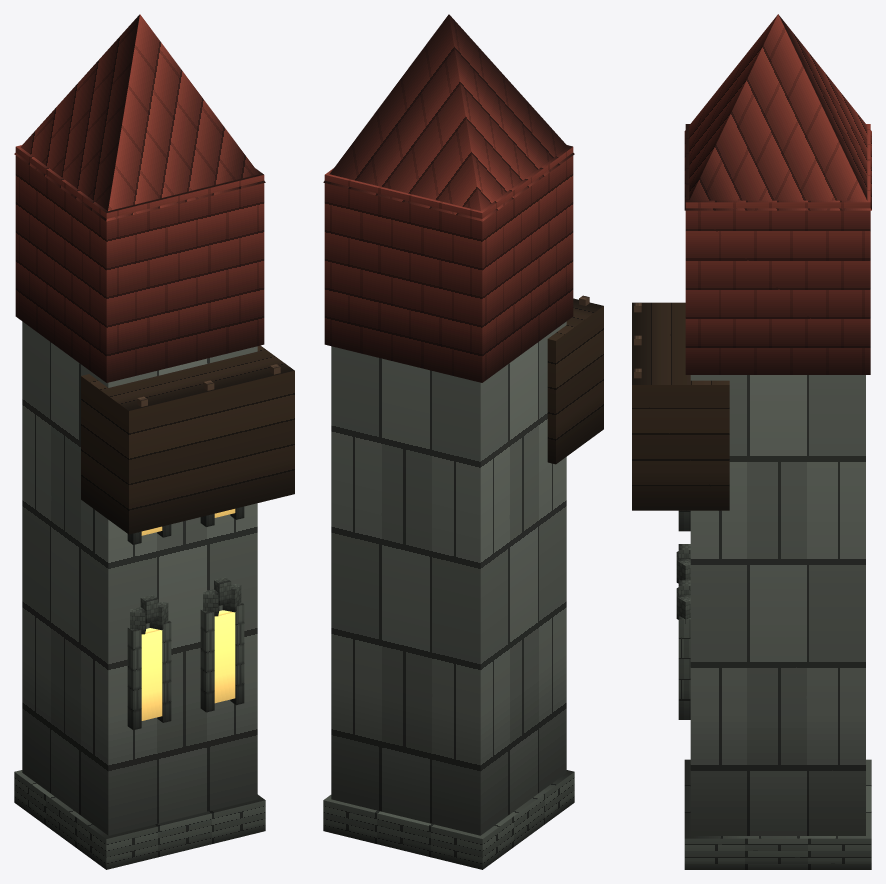
Rendered from tower_house_slate.gltf.
3 views of the same model, side by side, from view 1: azimuth 30°, elevation 25°; view 2: azimuth 150°, elevation 25°; view 3: azimuth 270°, elevation 25° (orthographic).
Visible parts, largest first — view 1: tower_house_slate; view 2: tower_house_slate; view 3: tower_house_slate.
Part boxes in pixels (x1,y1,x2,y2): tower_house_slate: (14,14,294,869); tower_house_slate: (323,14,603,869); tower_house_slate: (632,14,871,869).
Bounding box in the file's own units: 0.9 × 4.16 × 1.11.
Materials: 1 (1 with a texture image).
